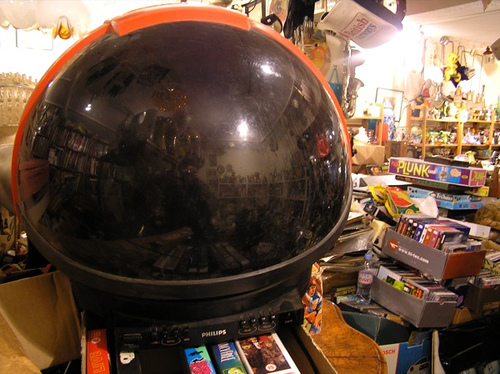helmet: (27, 35, 359, 280)
